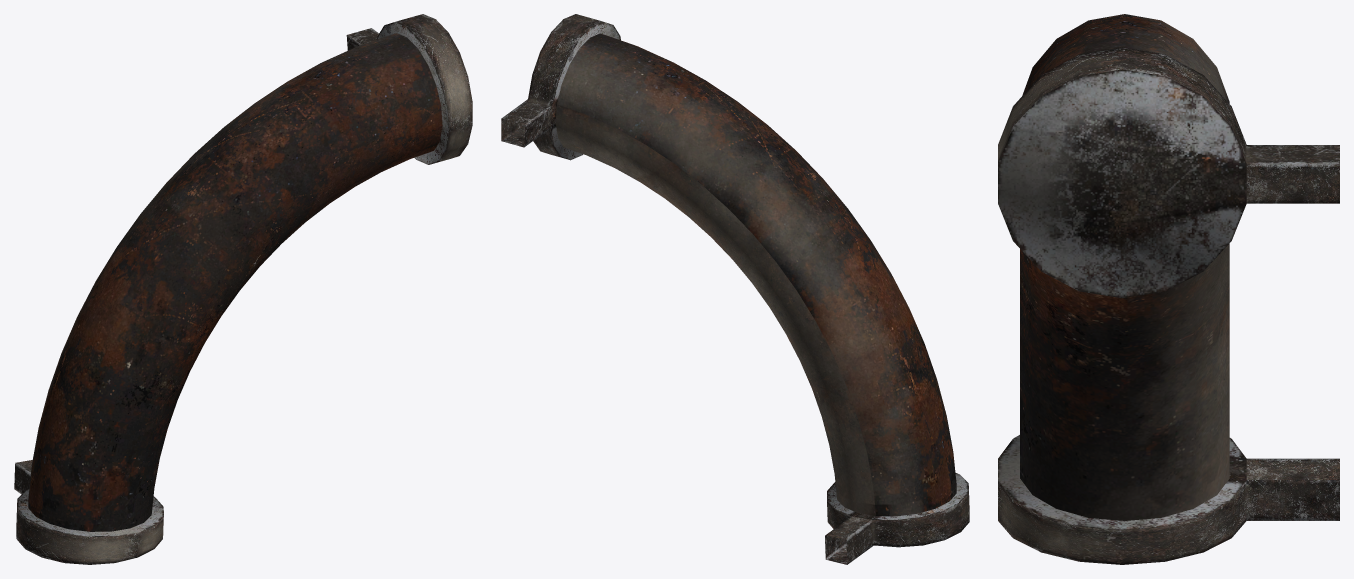
The model's file is SM_PipeBend90Small.FBX.
3 renders of one model, left to right at view 1: azimuth 30°, elevation 25°; view 2: azimuth 150°, elevation 25°; view 3: azimuth 270°, elevation 25°, orthographic. The views are drawn at different scales.
Parts seen in each view (by area): view 1: SM_PipeBend90Small; view 2: SM_PipeBend90Small; view 3: SM_PipeBend90Small.
Part boxes in pixels (x1=…): SM_PipeBend90Small: x1=14, y1=14, x2=472, y2=564; SM_PipeBend90Small: x1=501, y1=14, x2=969, y2=564; SM_PipeBend90Small: x1=998, y1=14, x2=1339, y2=564.
Bounding box in the file's own units: 75.52 × 32.13 × 75.52.
